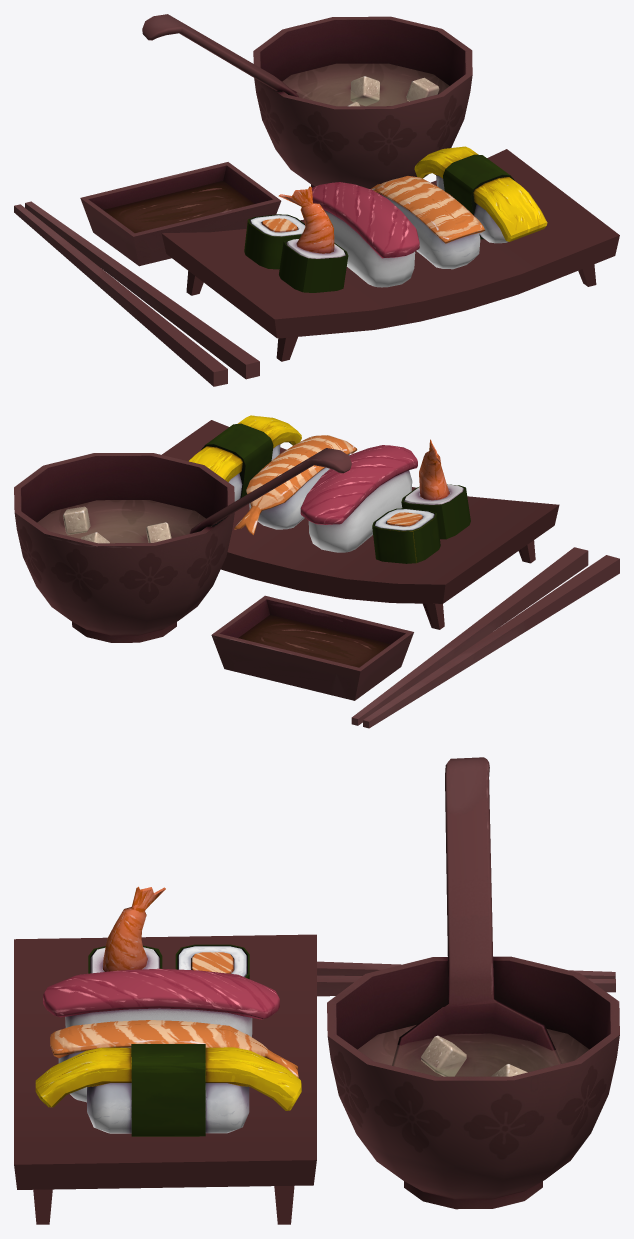
Rendered from sushi.glb.
3 views of the same model, one above another, from view 1: azimuth 30°, elevation 25°; view 2: azimuth 150°, elevation 25°; view 3: azimuth 270°, elevation 25° (orthographic). The views are drawn at different scales.
Parts seen in each view (by area): view 1: Sushi; view 2: Sushi; view 3: Sushi.
Boxes of the visible parts, <box> form: Sushi: <box>14,14,619,386</box>; Sushi: <box>14,415,619,728</box>; Sushi: <box>14,757,619,1224</box>.
Size of the model in its own units: 8.65 by 4.32 by 8.17.
4 materials, 4 textured.
